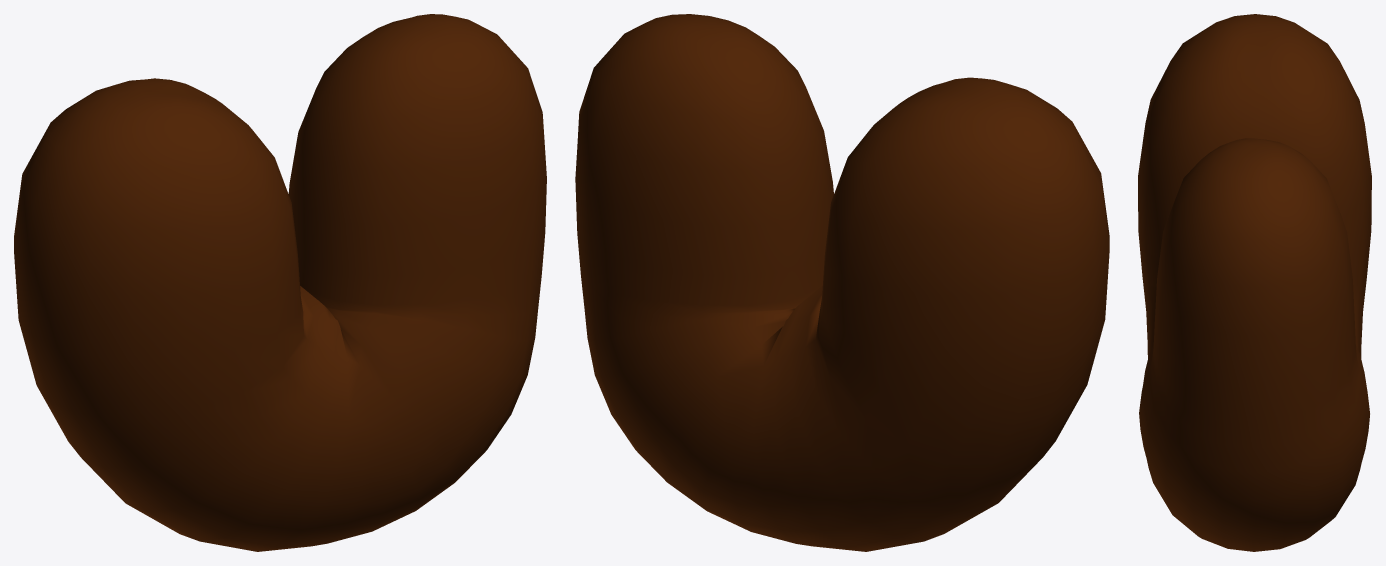
3 renders of one model, left to right at view 1: azimuth 30°, elevation 25°; view 2: azimuth 150°, elevation 25°; view 3: azimuth 270°, elevation 25°, orthographic. The views are drawn at different scales.
Visible parts, largest first — view 1: Object_44; view 2: Object_44; view 3: Object_44.
Part boxes in pixels (bbox=[...]): Object_44: bbox=[14, 14, 546, 551]; Object_44: bbox=[575, 14, 1109, 551]; Object_44: bbox=[1138, 14, 1371, 551].
Size of the model in its own units: 1.02 by 0.932 by 0.4581.
